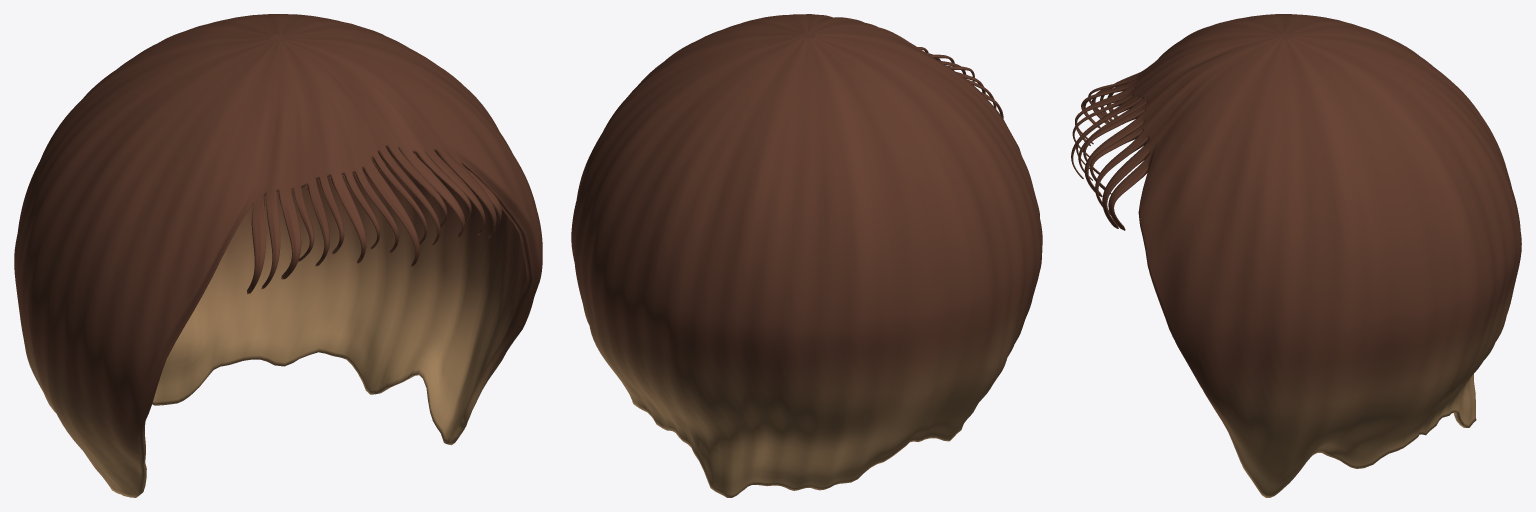
Rendered from side-sweep-pashmina-ombre.glb.
The picture shows the model from 3 angles, left to right: view 1: azimuth 30°, elevation 25°; view 2: azimuth 150°, elevation 25°; view 3: azimuth 270°, elevation 25°; orthographic projection. The views are drawn at different scales.
Parts seen in each view (by area): view 1: Wispy bangs / continuous crown; view 2: Wispy bangs / continuous crown; view 3: Wispy bangs / continuous crown.
Boxes of the visible parts, <box> form: Wispy bangs / continuous crown: <box>14,14,542,497</box>; Wispy bangs / continuous crown: <box>571,14,1042,497</box>; Wispy bangs / continuous crown: <box>1071,14,1521,497</box>.
Size of the model in its own units: 0.8384 by 0.7657 by 0.798.
